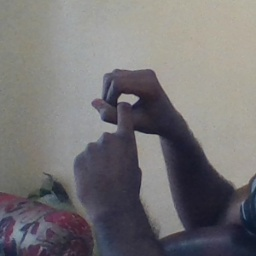Q: (70, 67, 169, 191)
